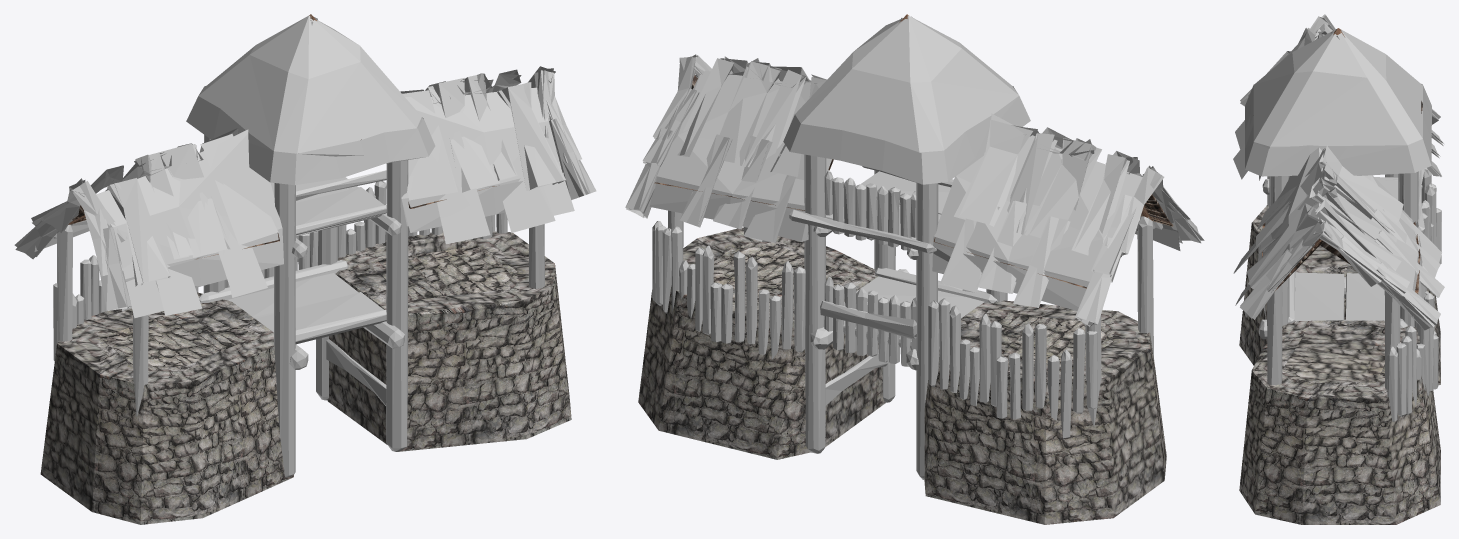
File: TowerGate_1_LOD2.fbx
The picture shows the model from 3 angles, left to right: view 1: azimuth 30°, elevation 25°; view 2: azimuth 150°, elevation 25°; view 3: azimuth 270°, elevation 25°; orthographic projection. The views are drawn at different scales.
Parts seen in each view (by area): view 1: Stone, Alphas, Wood; view 2: Alphas, Stone, Wood, Roof; view 3: Alphas, Stone, Wood, Roof.
Part boxes in pixels (x1,y1,x2,y2): Stone: (40,231,571,524); Alphas: (14,15,596,318); Wood: (53,17,544,477); Alphas: (625,15,1204,326); Stone: (638,227,1166,524); Wood: (652,16,1153,479); Roof: (654,14,1173,288); Alphas: (1233,14,1444,330); Stone: (1239,205,1440,524); Wood: (1259,30,1441,421); Roof: (1262,28,1422,294).
Size of the model in its own units: 1903 by 776 by 1579.
